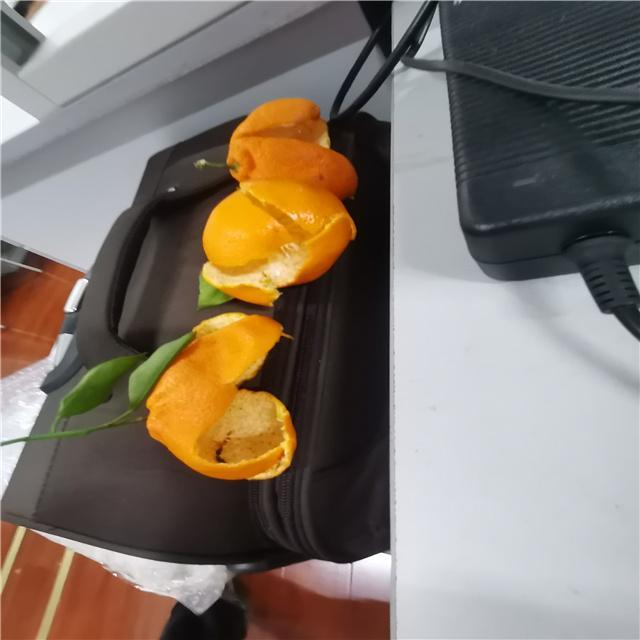orange-peel: (0, 310, 302, 482), (195, 170, 359, 308), (193, 91, 363, 198)
